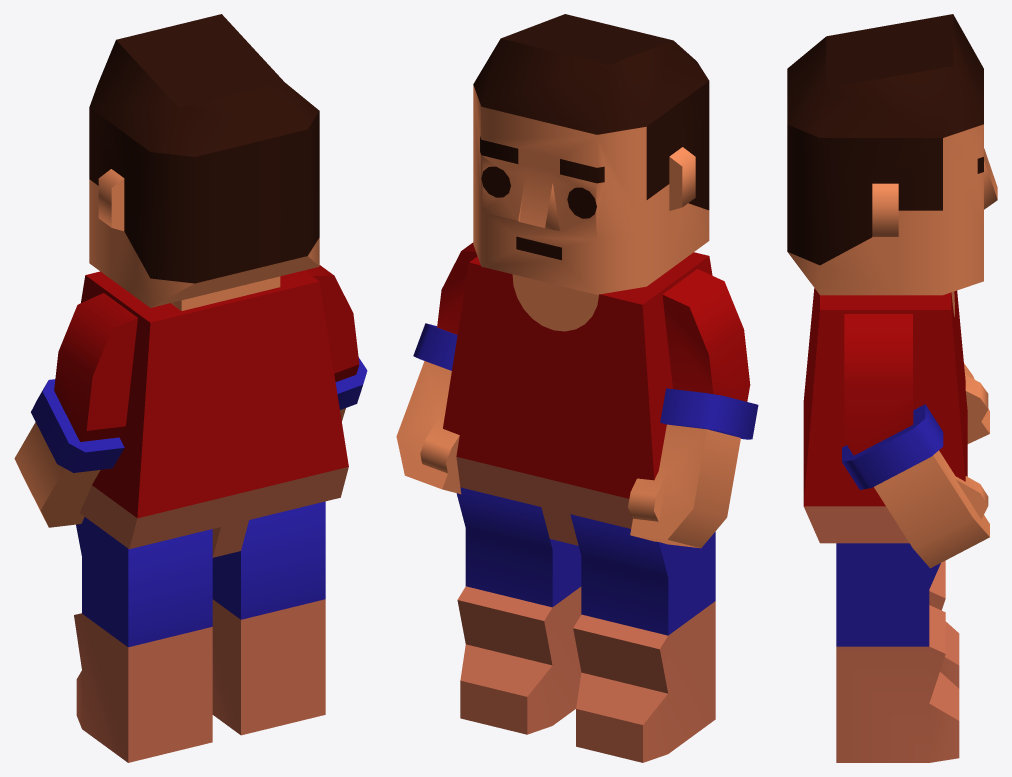
Rendered from boy.glb.
The picture shows the model from 3 angles, left to right: view 1: azimuth 30°, elevation 25°; view 2: azimuth 150°, elevation 25°; view 3: azimuth 270°, elevation 25°; orthographic projection. The views are drawn at different scales.
Parts seen in each view (by area): view 1: mergedBlocks(Clone); view 2: mergedBlocks(Clone); view 3: mergedBlocks(Clone).
Part boxes in pixels (box(x1,y1,x2,y2)): mergedBlocks(Clone): box(14, 14, 367, 762); mergedBlocks(Clone): box(396, 14, 758, 762); mergedBlocks(Clone): box(787, 14, 997, 762).
Bounding box in the file's own units: 0.4321 × 0.9074 × 0.2568.
